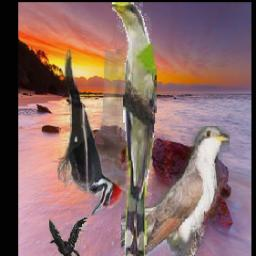Crow: (48, 217, 87, 256)
Cuckoo: (120, 126, 229, 256), (109, 2, 156, 256)
Woodpecker: (56, 49, 125, 215)
